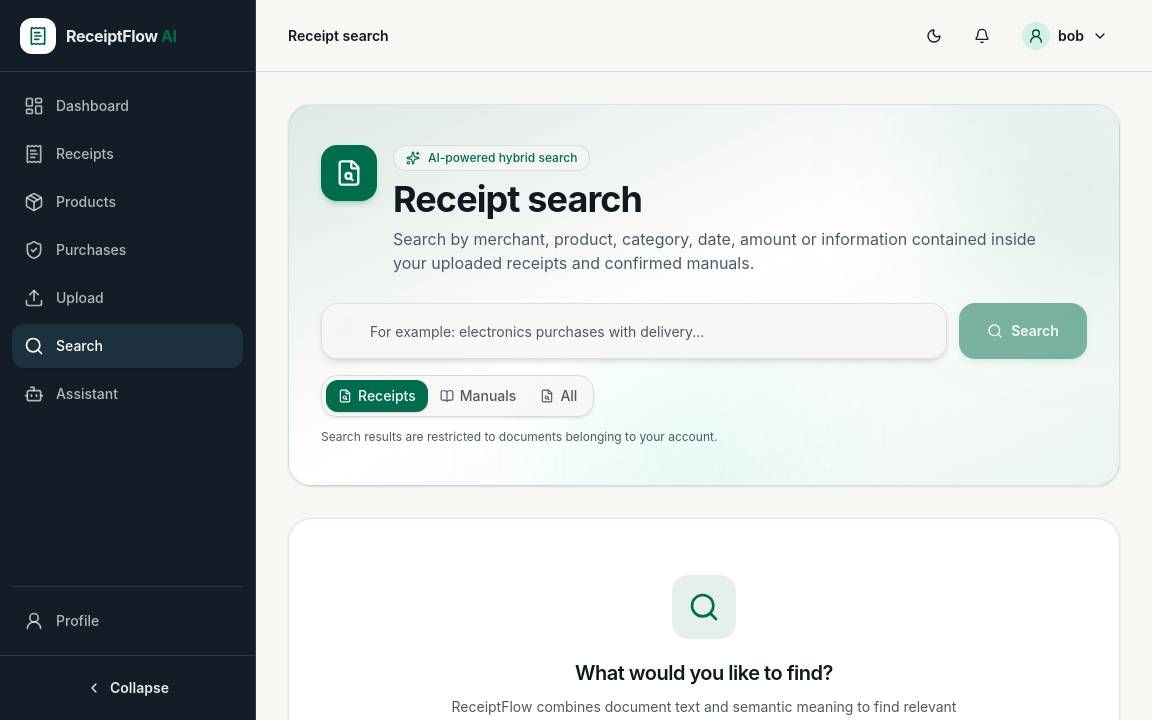
it: Receipt search page › submits the backend contract and renders safe result fields
The image size is (1152, 720).
Expected: the heading "Receipt search" is shown, x1=393 y1=177 x2=642 y2=221
In the search field named "Search receipts": (634, 331) x1=321 y1=303 x2=947 y2=359, type "USB cables"
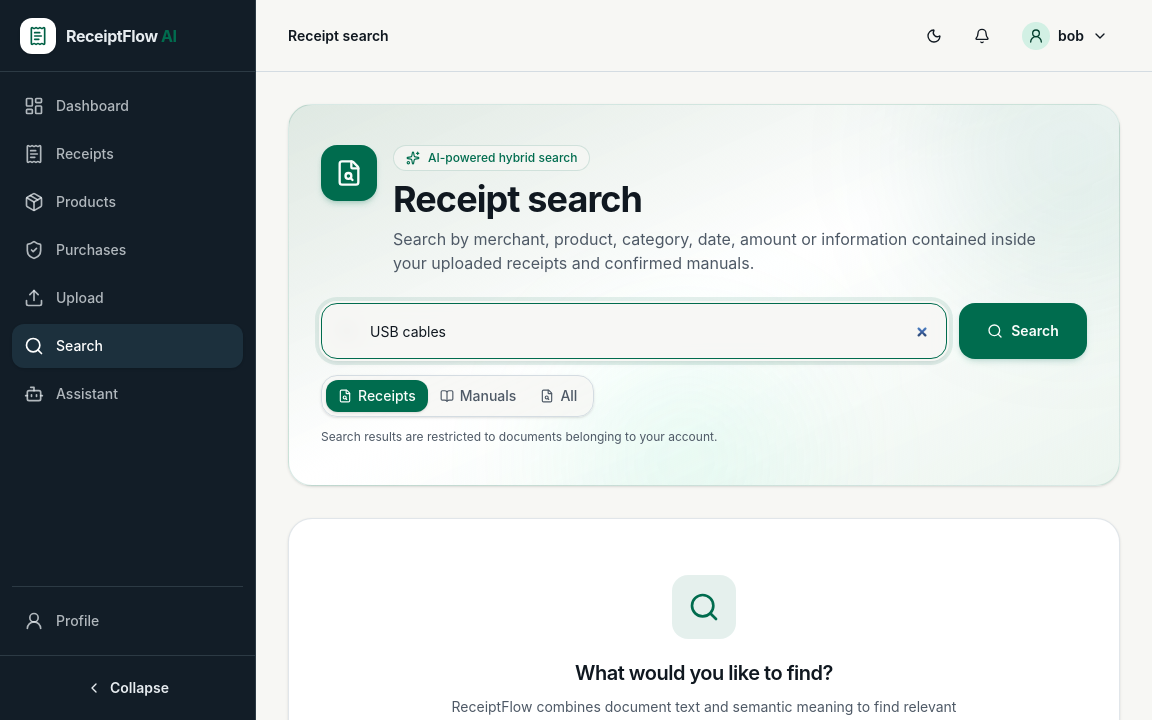
Click the button "Search": (1023, 331) x1=959 y1=303 x2=1087 y2=359
(page scrolled)
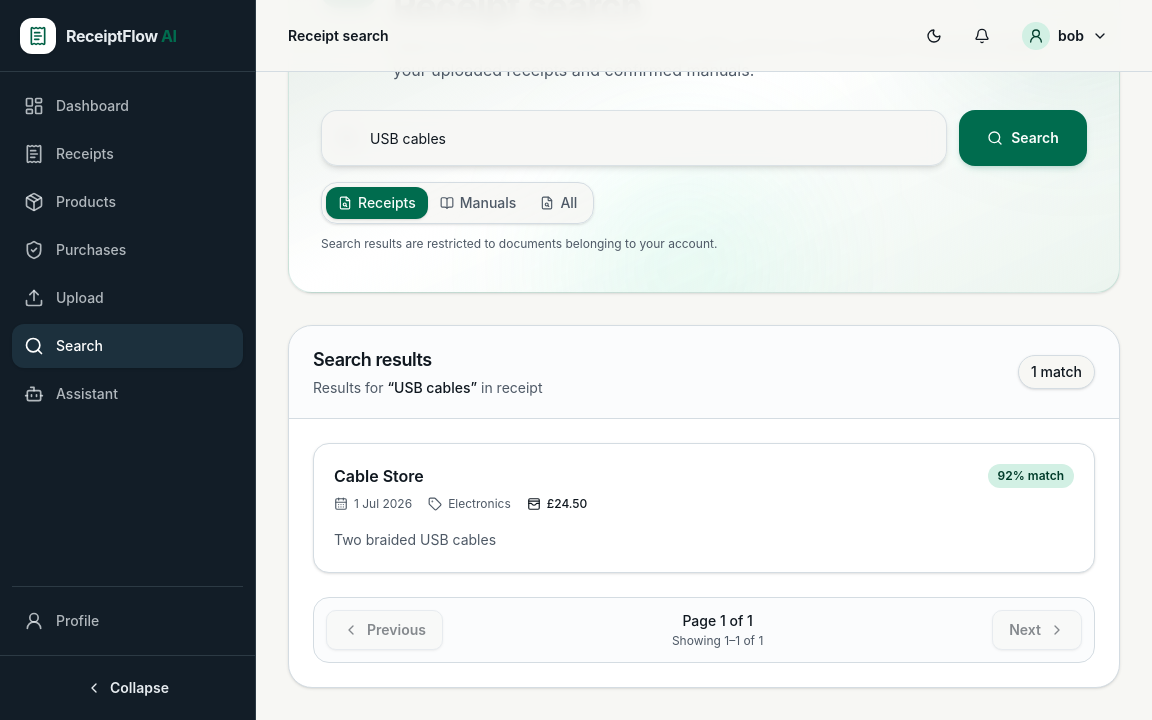
Expected: the text "Electronics" is shown, x1=428 y1=496 x2=511 y2=512
Expected: the heading "Cable Store" is shown, x1=334 y1=466 x2=424 y2=486
Expected: the text "Two braided USB cables" is shown, x1=334 y1=531 x2=496 y2=548
